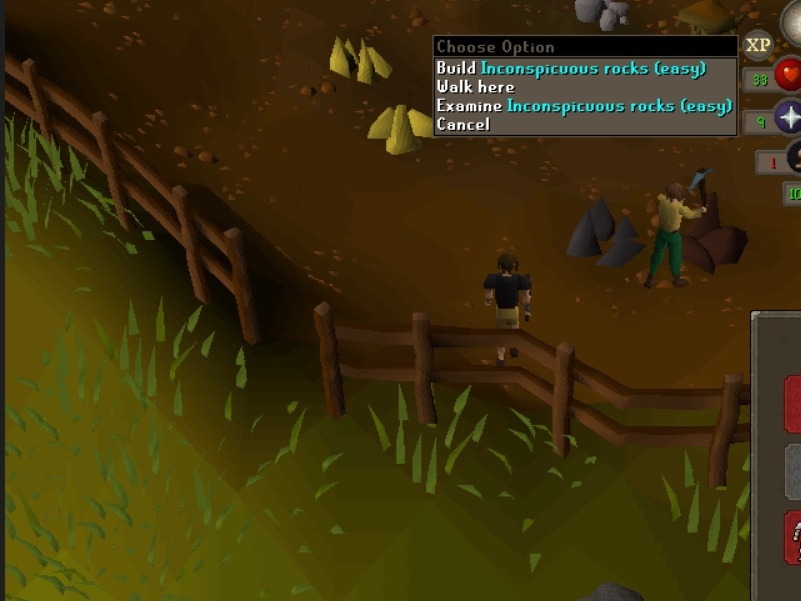gold: (324, 30, 400, 92), (367, 97, 443, 159)
iron: (669, 176, 759, 283)
